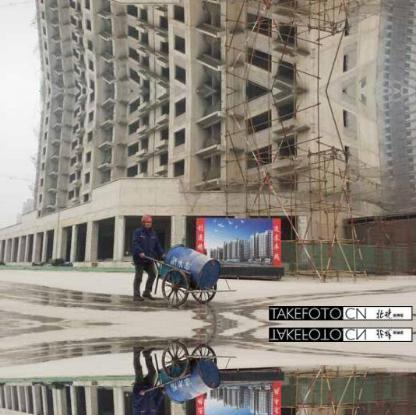helmet: (138, 208, 157, 228)
